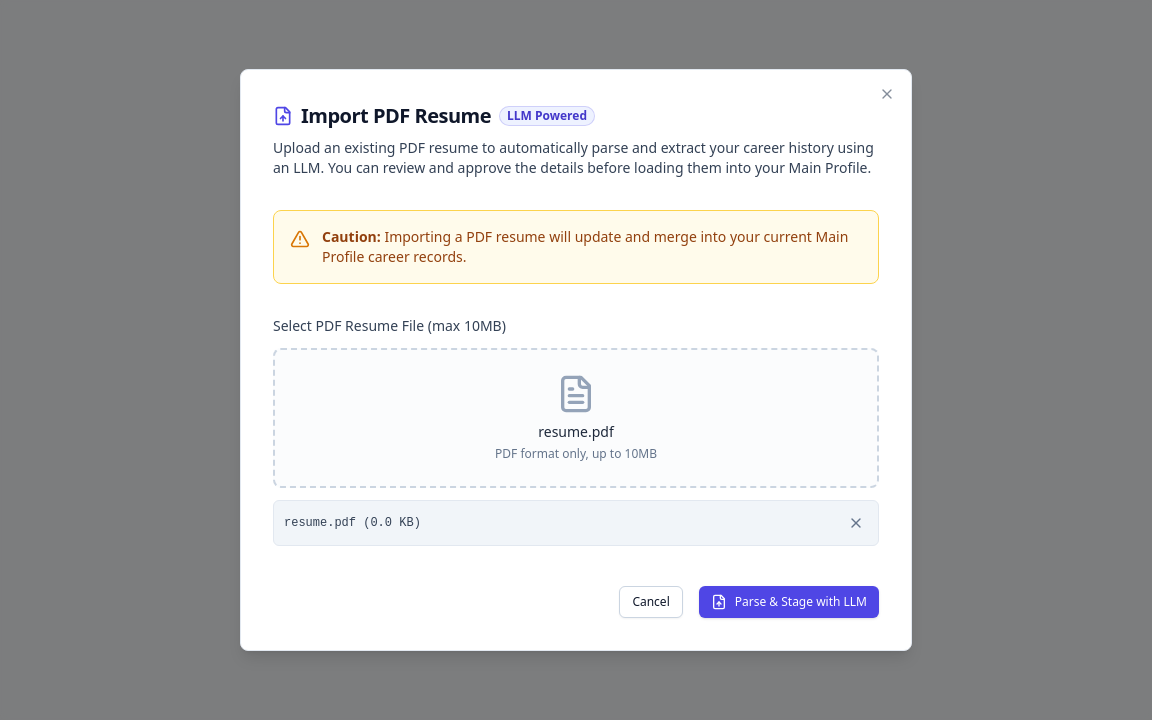
Test: ImportPDFDialog › renders inline error alert when parse API mutation fails
The image size is (1152, 720).
Earlier steps of the test are not shown.
Step 1. Click the button "Parse & Stage with LLM" → (789, 602), box [699,586,879,618]
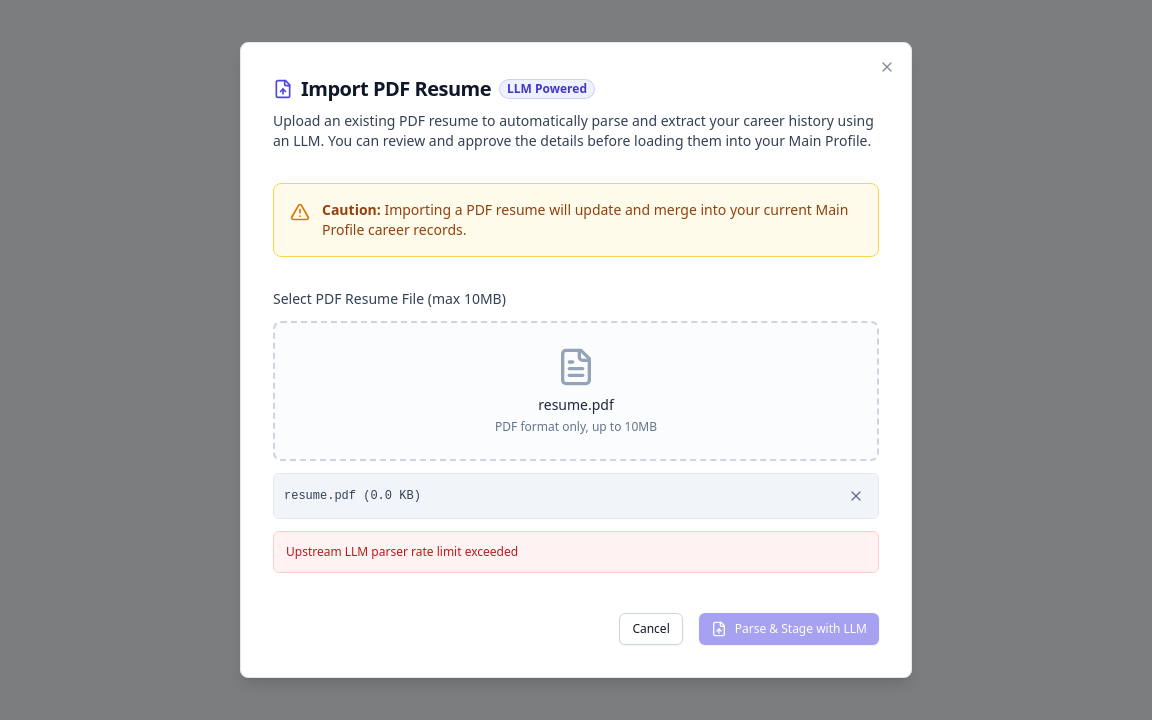
Expected: the heading "Import PDF Resume" is shown, [301,75,491,103]
Expected: the text "Upstream LLM parser rate limit exceeded" is shown, [273,531,879,573]
